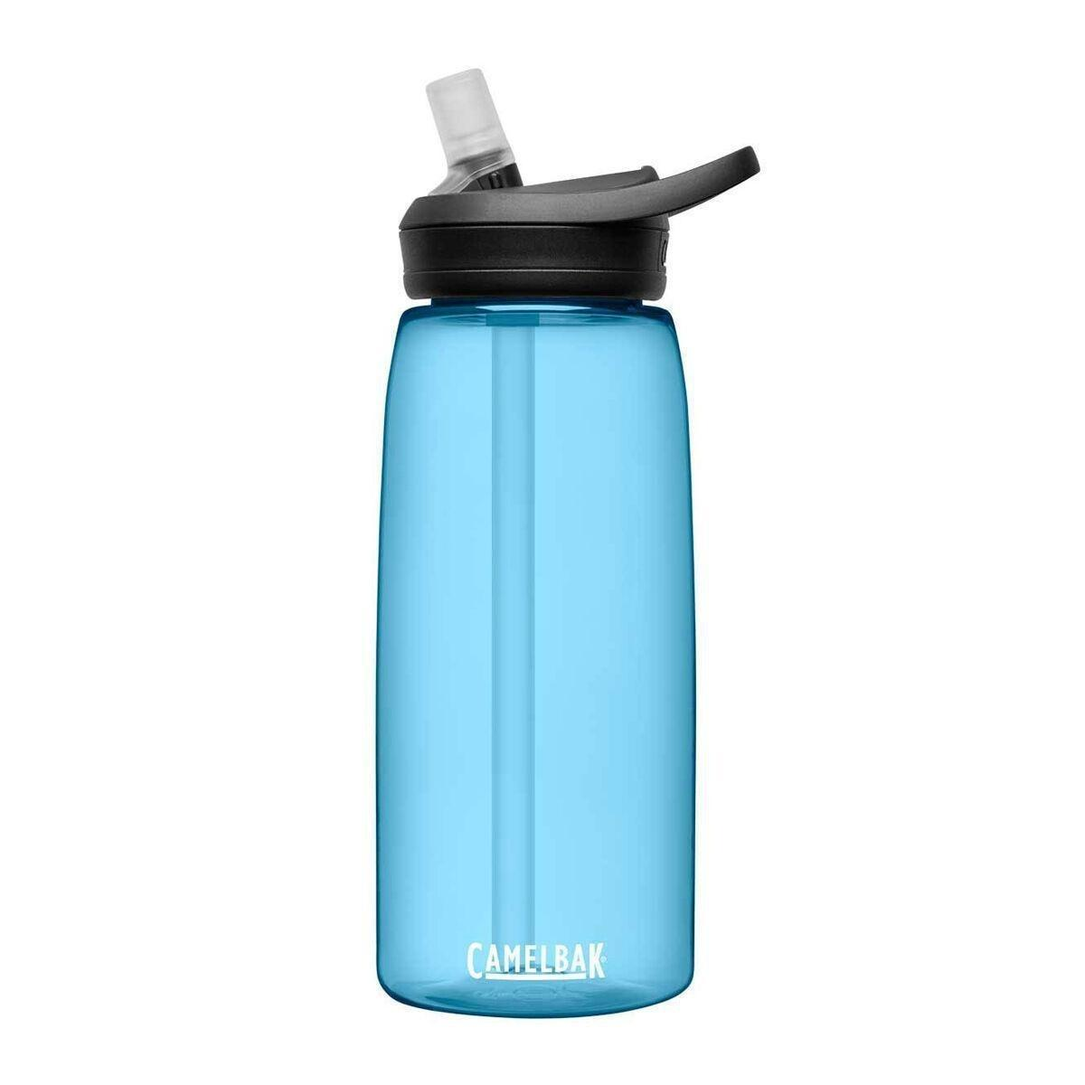gym bottle: (365, 71, 761, 1024)
